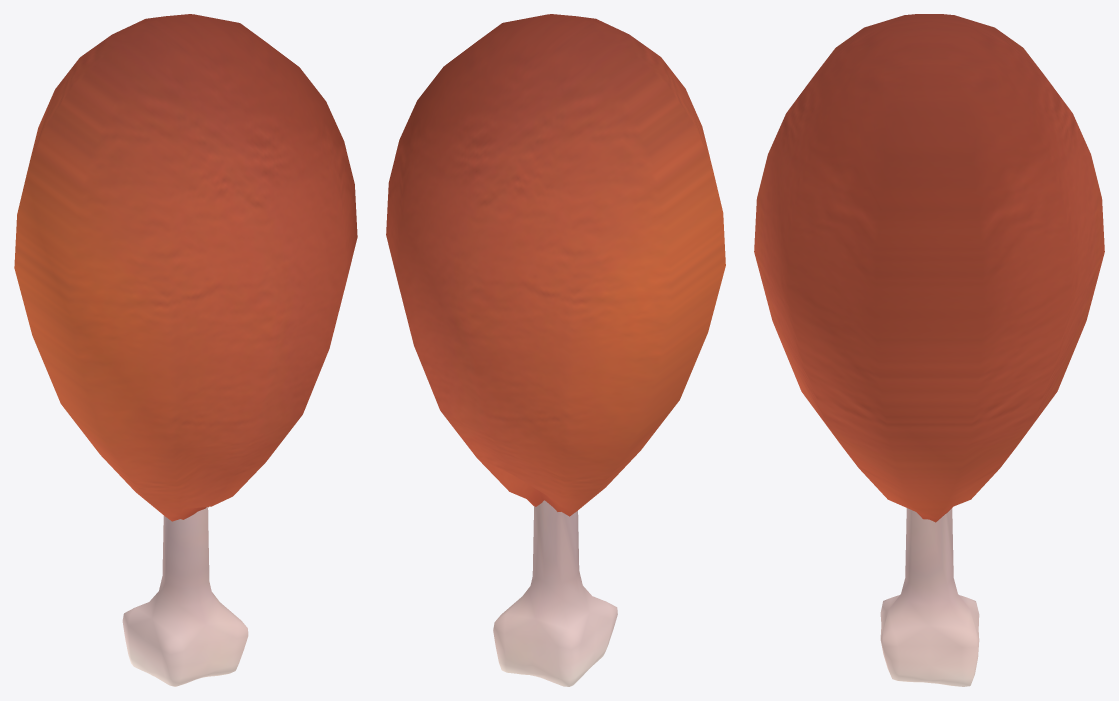
Rendered from brown_chickenleg.glb.
The picture shows the model from 3 angles, left to right: view 1: azimuth 30°, elevation 25°; view 2: azimuth 150°, elevation 25°; view 3: azimuth 270°, elevation 25°; orthographic projection.
Visible parts, largest first — view 1: Brown_ChickenLeg; view 2: Brown_ChickenLeg; view 3: Brown_ChickenLeg.
Part boxes in pixels (box(x1,y1,x2,y2)): Brown_ChickenLeg: box(14, 14, 357, 686); Brown_ChickenLeg: box(386, 14, 725, 686); Brown_ChickenLeg: box(754, 14, 1104, 686).
Bounding box in the file's own units: 0.3168 × 0.6782 × 0.3331.
1 material, 1 textured.
